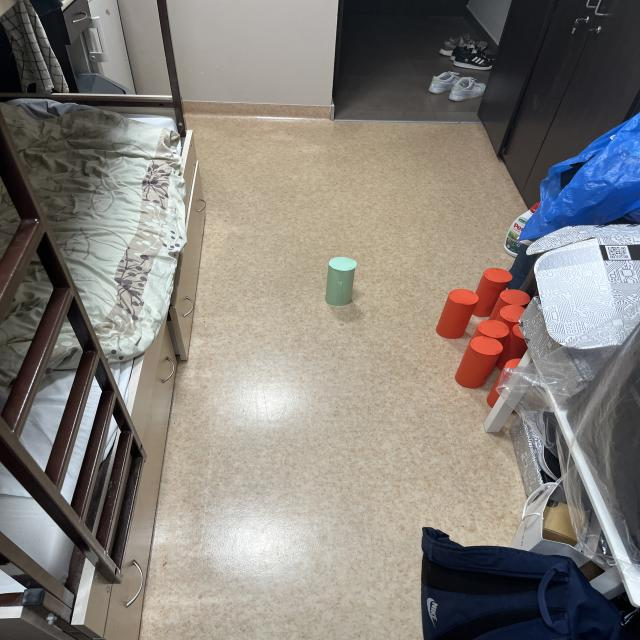meta: (325, 257, 357, 306)
